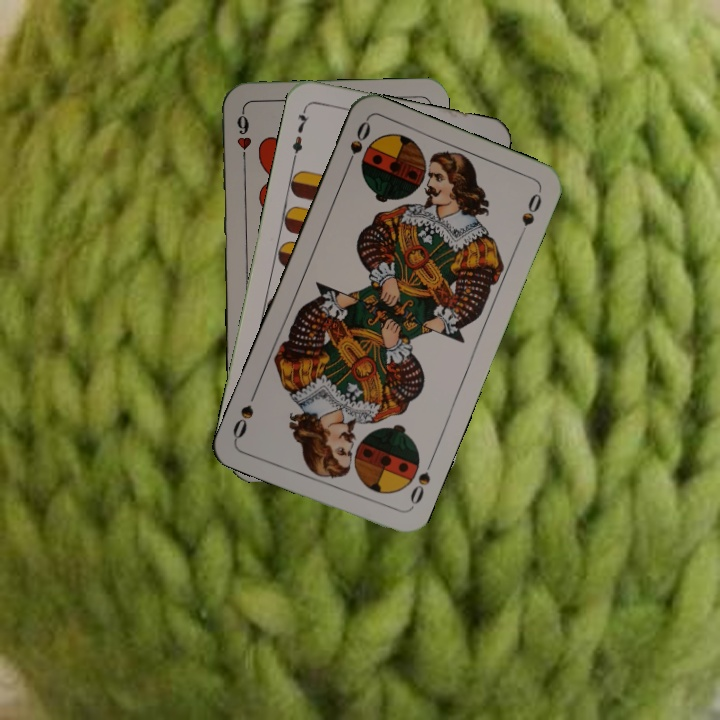E7: (288, 104, 312, 163)
H9: (232, 107, 254, 166)
SO: (341, 117, 373, 174), (405, 468, 433, 513)
